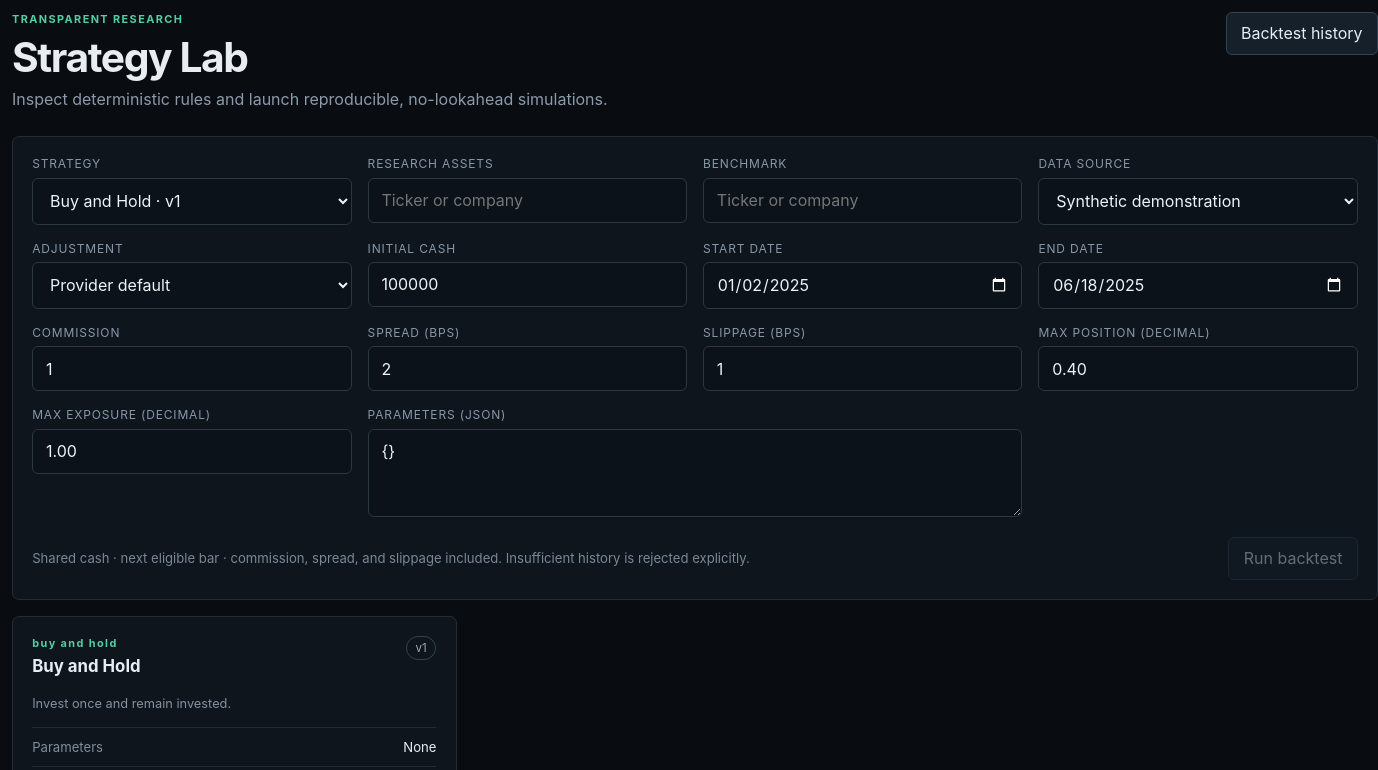
Test: Sprint 2 research workflows › validates strategy parameters before submission
The width and height of the screenshot is (1378, 770).
In the field labelled "Research assets": (527, 200) [368,178,687,222], type "AAPL"
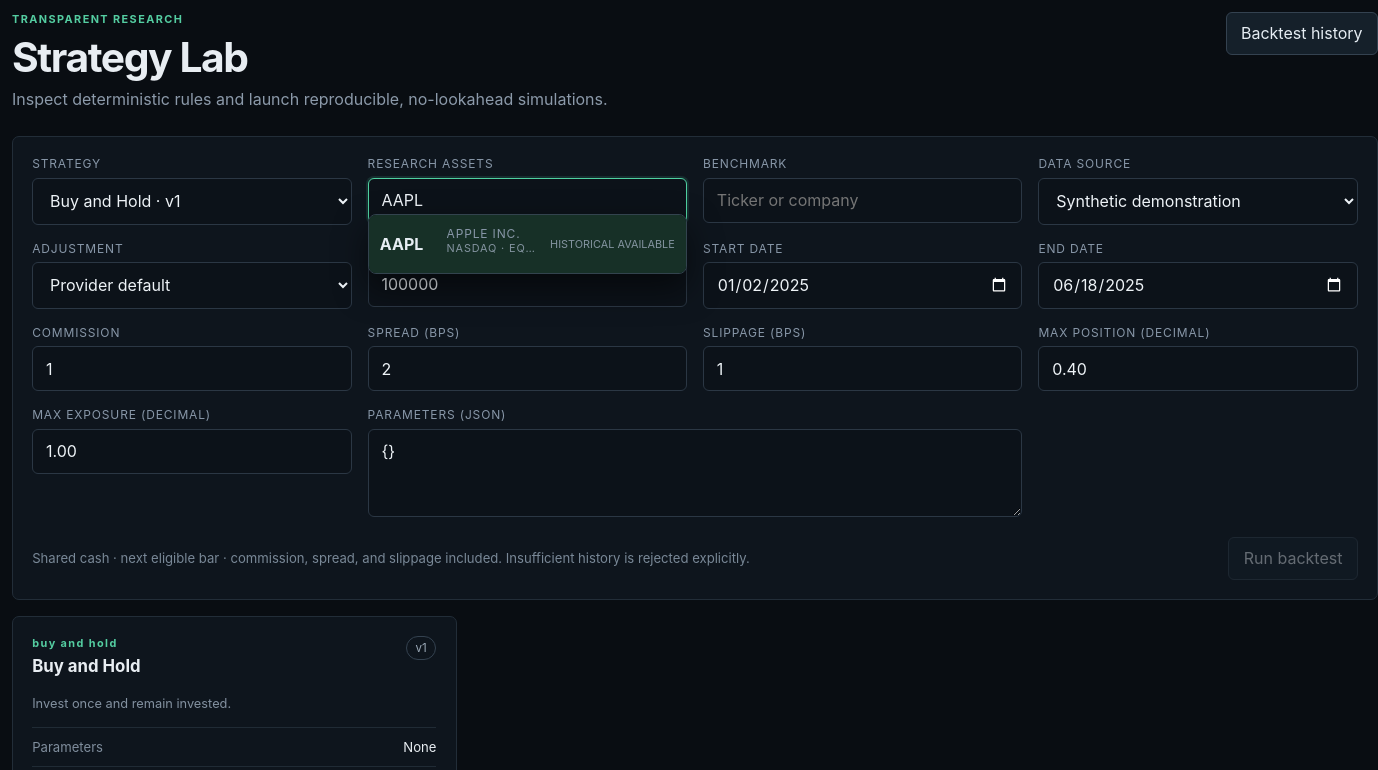
Click the option "AAPL Apple Inc. NASDAQ · equity HISTORICAL AVAILABLE": click(527, 244) [369,215,686,273]
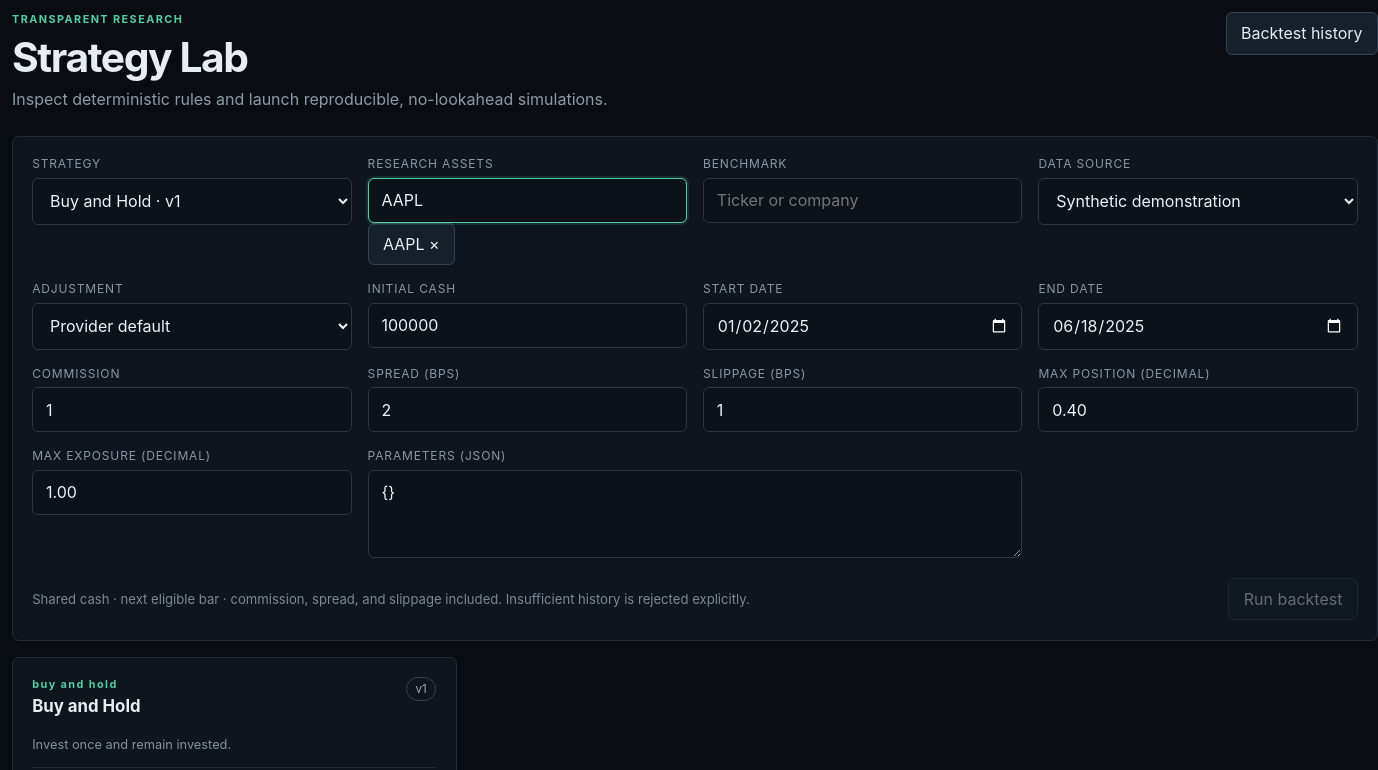
In the field labelled "Benchmark": (863, 200) [703,178,1022,222], type "AAPL"
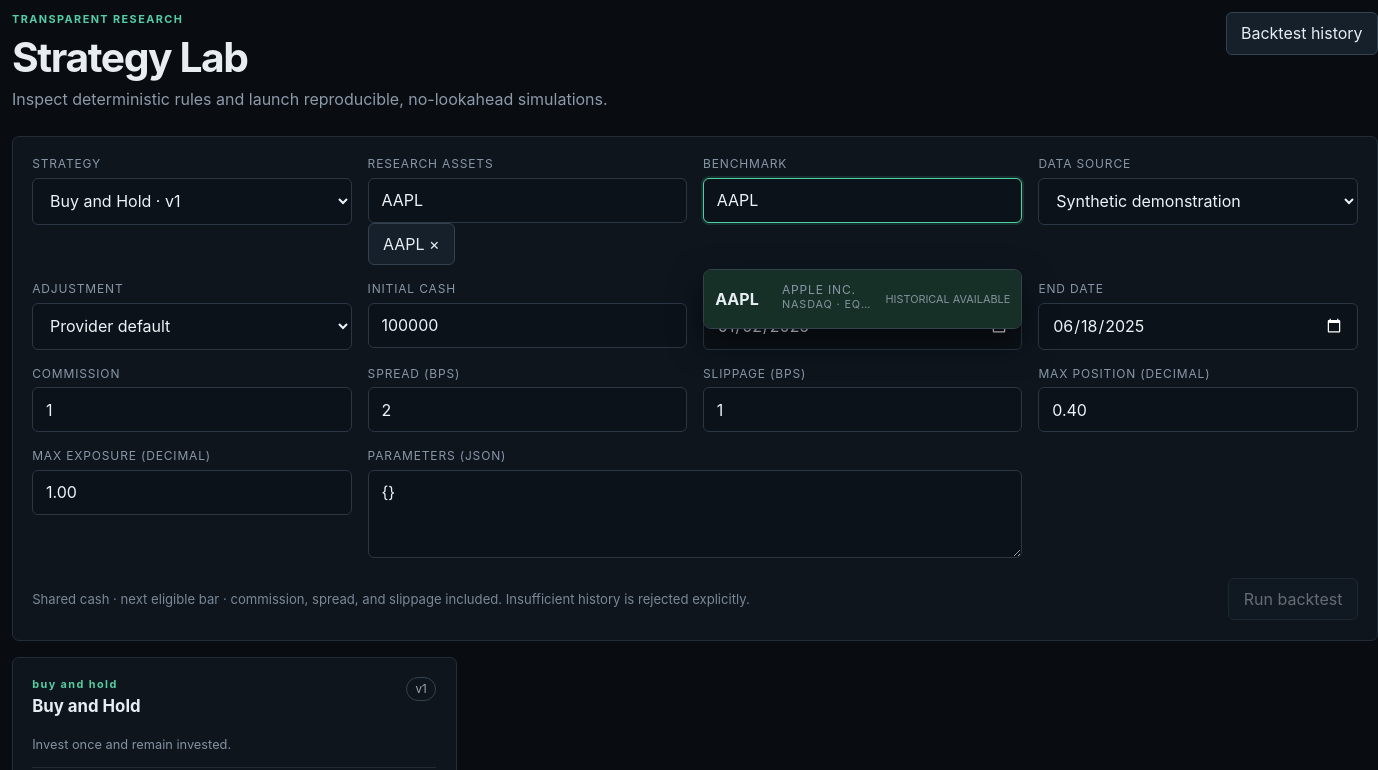
Click the option "AAPL Apple Inc. NASDAQ · equity HISTORICAL AVAILABLE": click(863, 299) [704,270,1021,328]
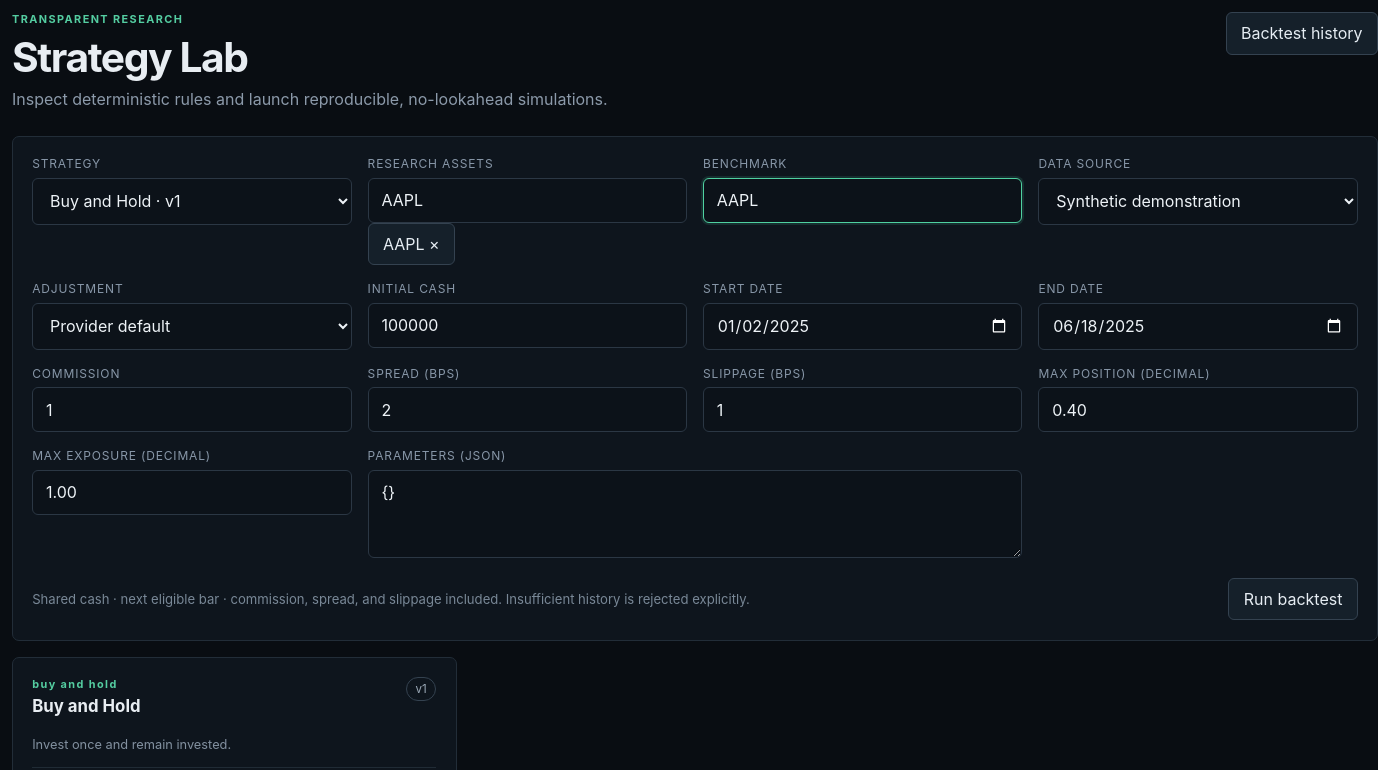
Replace the text in the text box labelled "Parameters (JSON)" with "not-json": (695, 514) [368,470,1022,558]
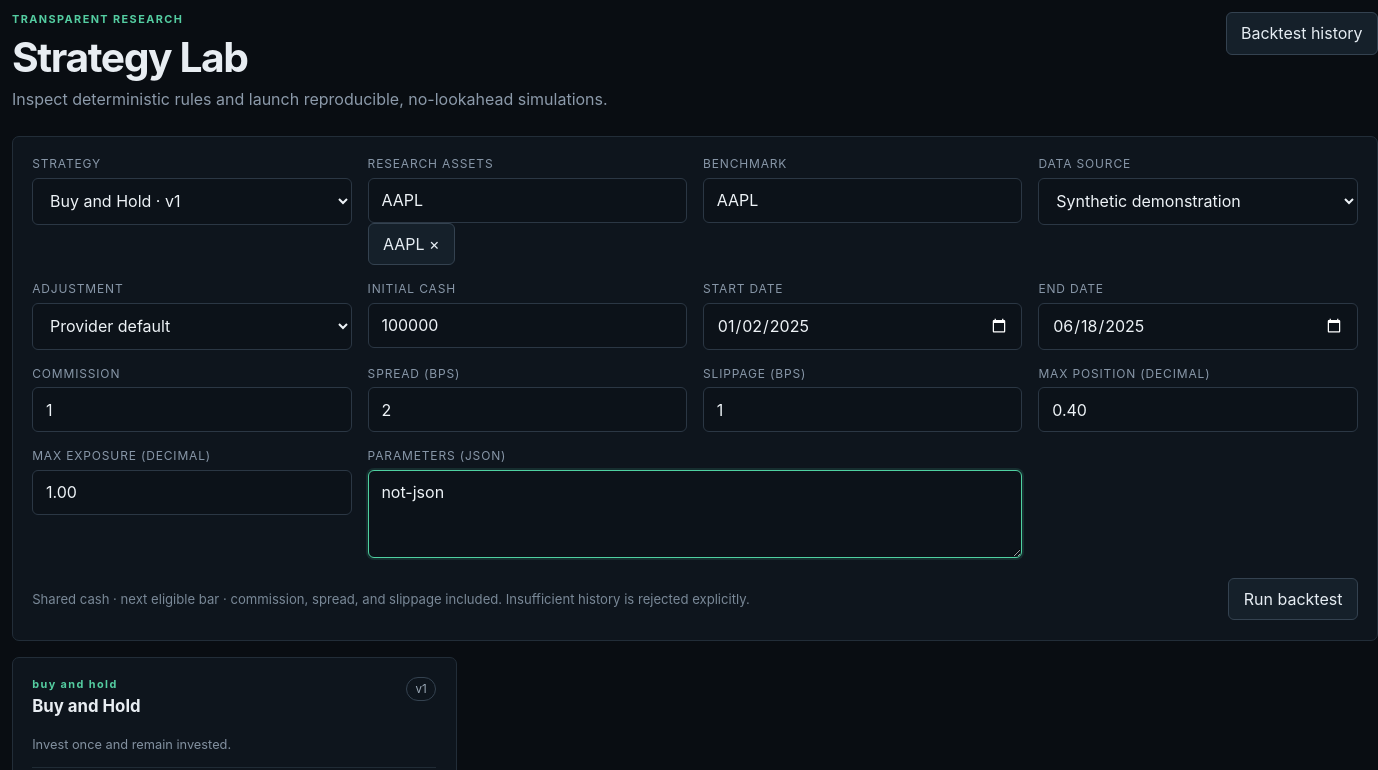
Click the button "Run backtest": click(1293, 599) [1228,578,1358,620]
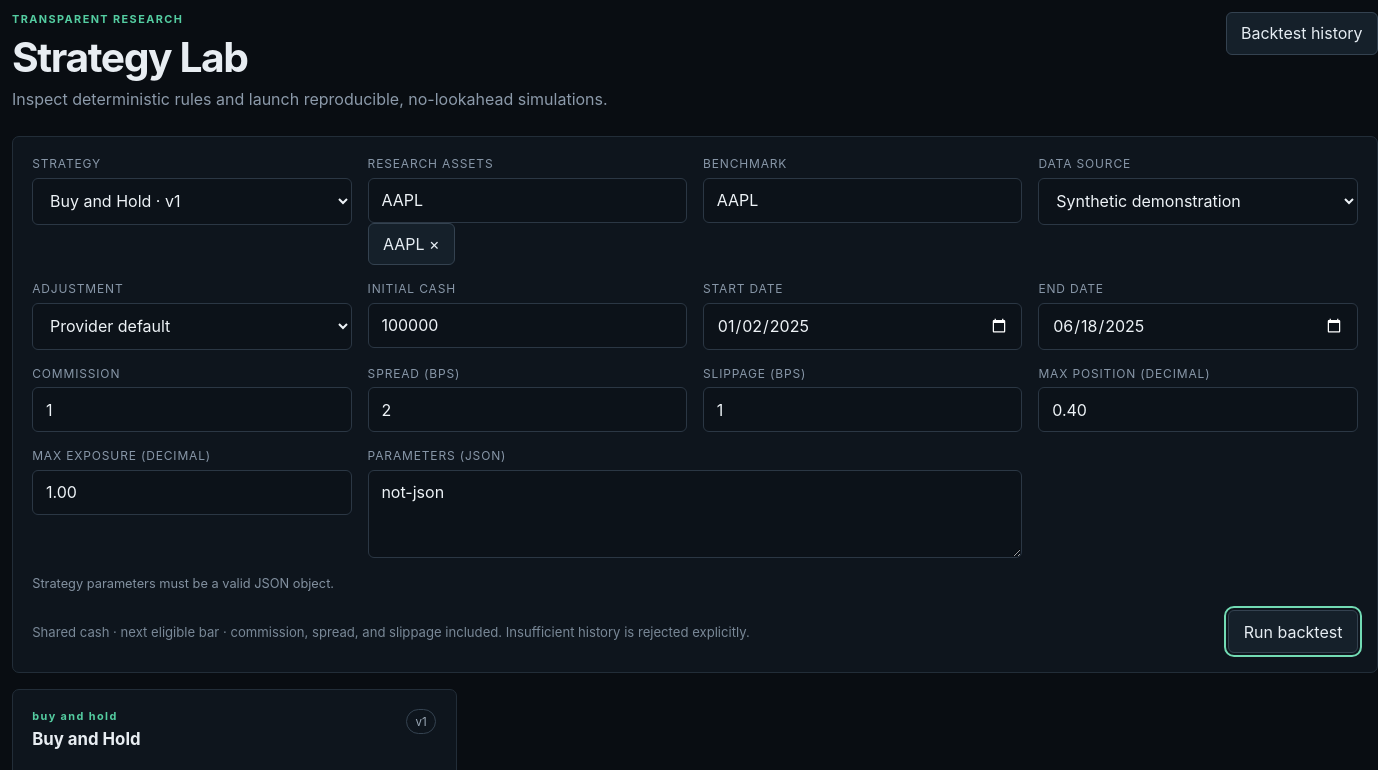
Now the message shows "valid JSON object", box [32,576,334,591]
